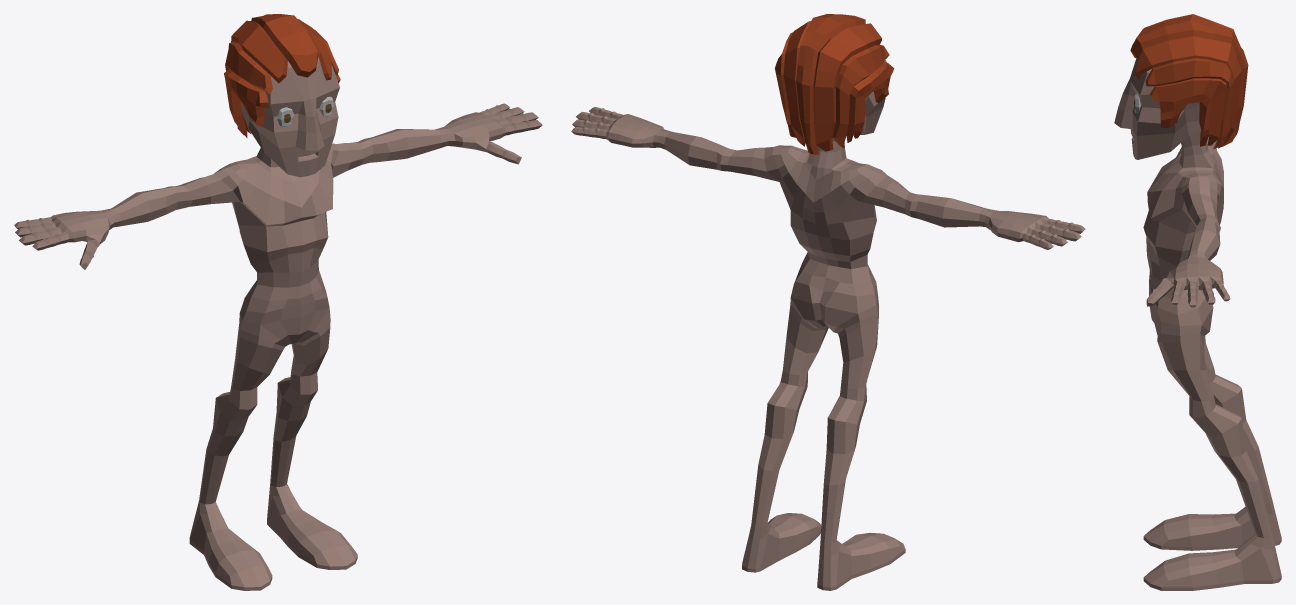
Rendered from Farmer.fbx.
3 views of the same model, side by side, from view 1: azimuth 30°, elevation 25°; view 2: azimuth 150°, elevation 25°; view 3: azimuth 270°, elevation 25° (orthographic). The views are drawn at different scales.
Visible parts, largest first — view 1: Farmer; view 2: Farmer; view 3: Farmer.
Part boxes in pixels (box(x1,y1,x2,y2)): Farmer: box(14, 14, 542, 590); Farmer: box(571, 14, 1085, 590); Farmer: box(1114, 14, 1281, 590).
Bounding box in the file's own units: 13.5 × 13.62 × 3.82.
